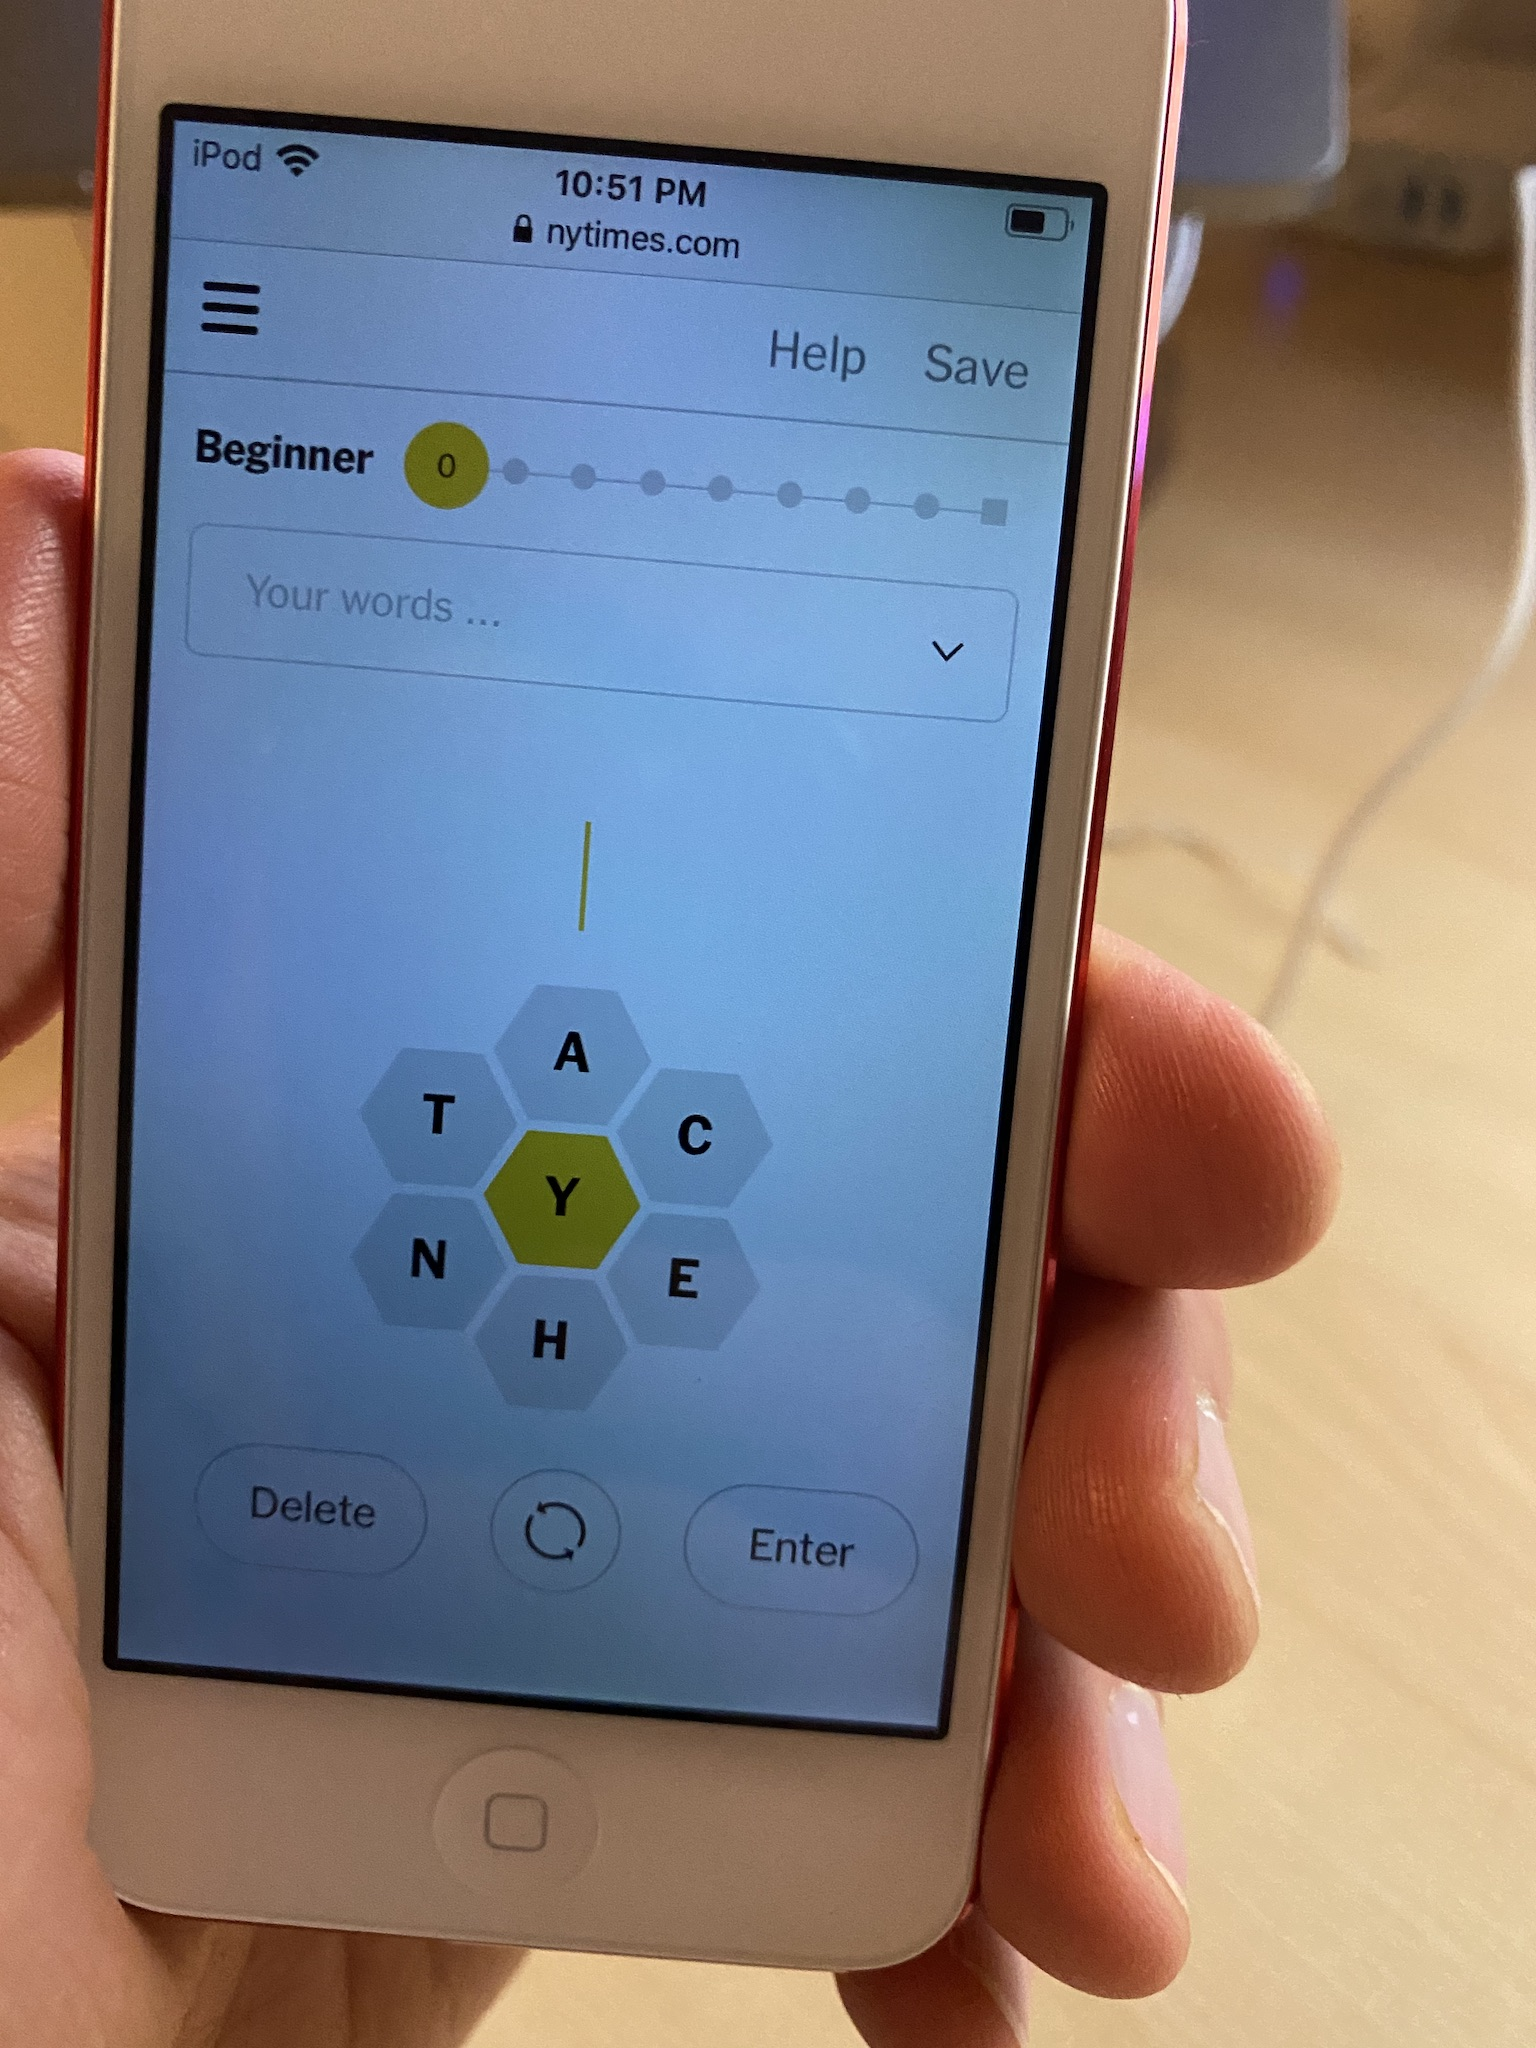Board: (337, 971, 791, 1429)
